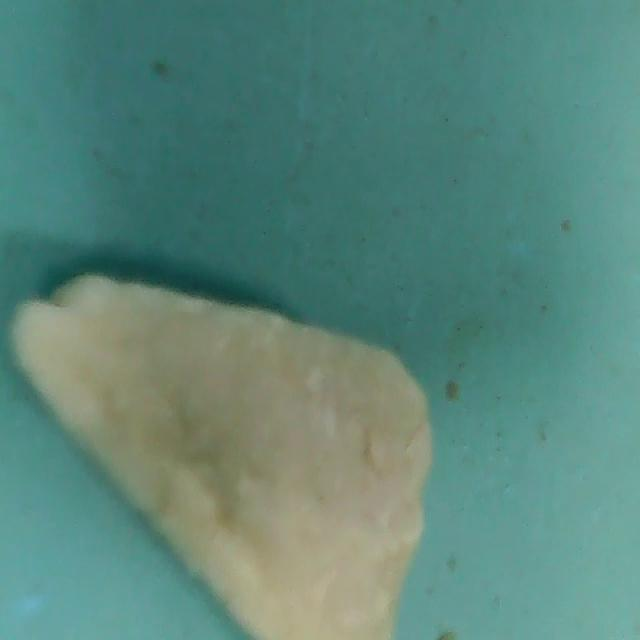rock: (8, 254, 446, 640)
